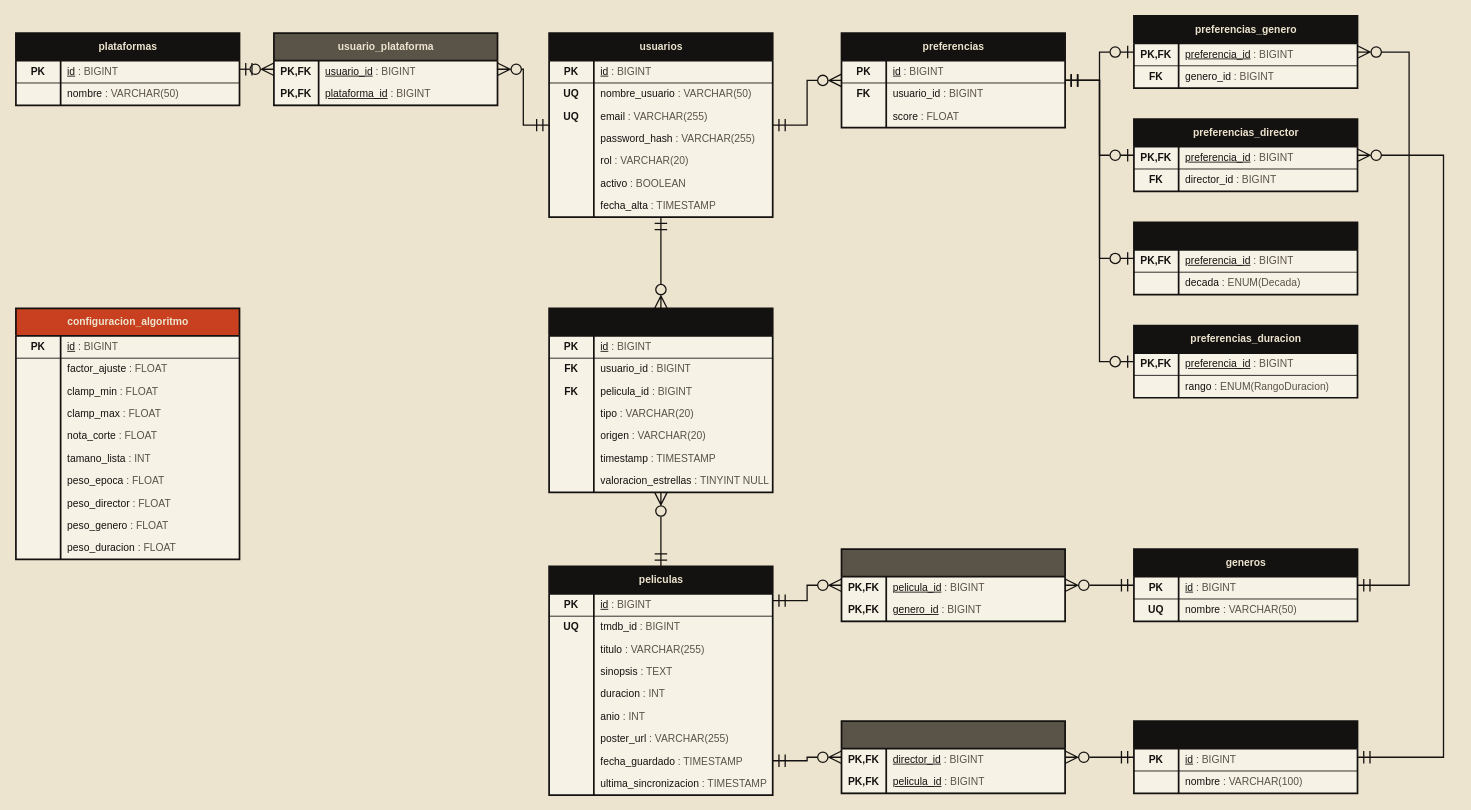
Image size: 1471x810. Some labels were removed from this diagram. Each missing label, with the box of its shape:
director_pelicula: (840, 720, 1066, 794)
directores: (1133, 720, 1358, 794)
interacciones: (548, 307, 773, 493)
pelicula_genero: (840, 548, 1066, 622)
preferencias_epoca: (1133, 221, 1358, 295)
